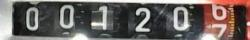digits: (172, 6, 191, 30), (90, 5, 108, 30), (206, 3, 229, 22), (134, 7, 151, 32), (59, 4, 74, 28), (25, 6, 39, 30)
